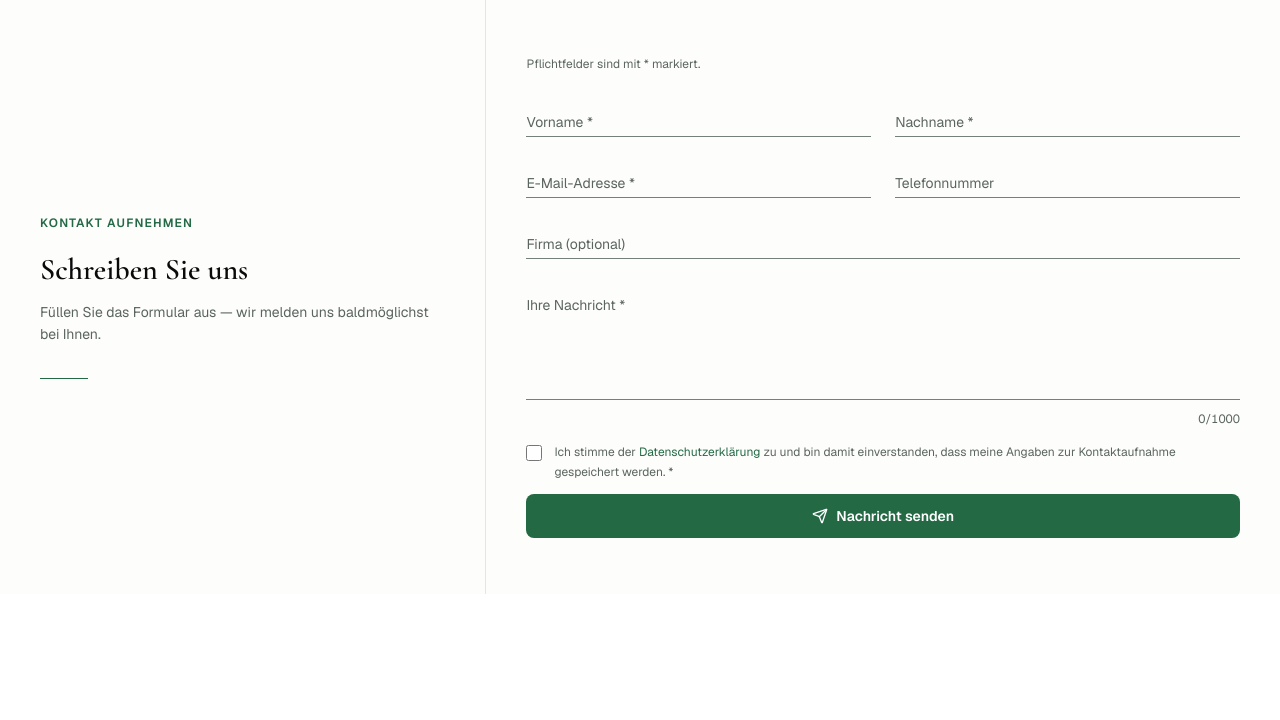
ContactForm › shows server field errors returned by the backend
Type "Anna" into the field labelled "Vorname *" at (699, 116), box [526,96,871,137]
Type "Müller" into the field labelled "Nachname *" at (1068, 116), box [895,96,1240,137]
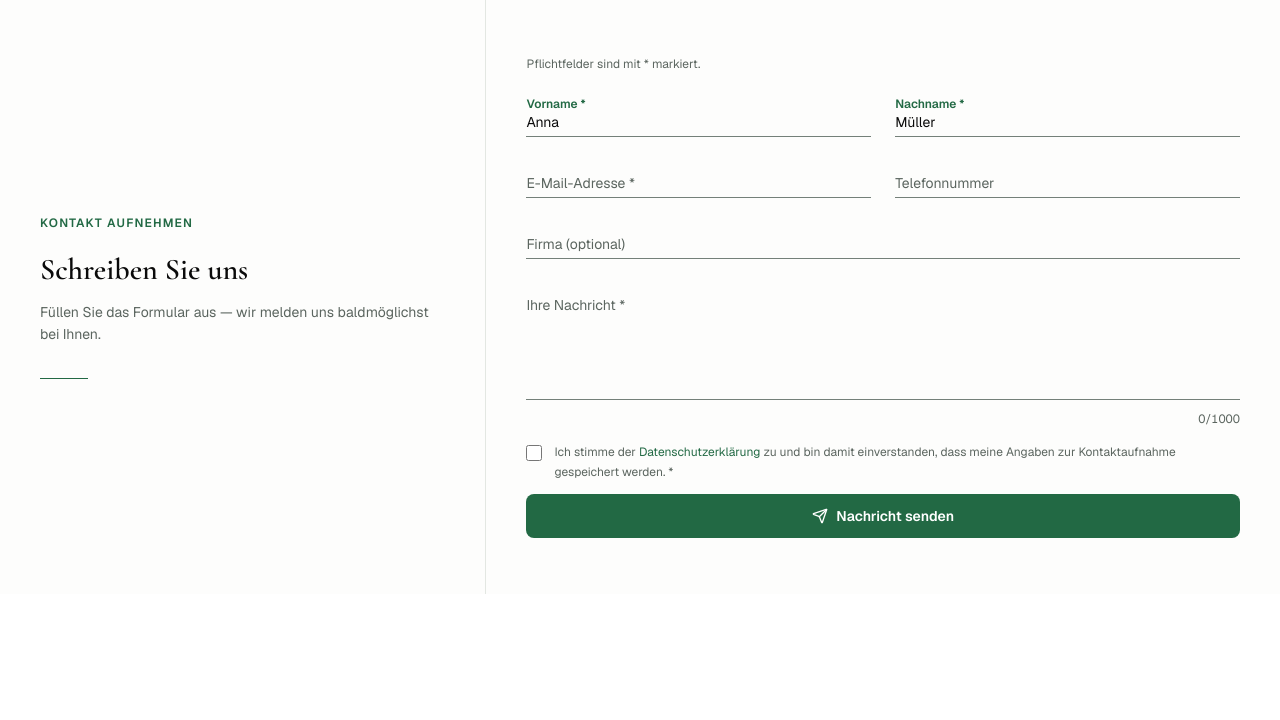
Type "anna@example.de" into the field labelled "E-Mail-Adresse *" at (699, 178), box [526,157,871,198]
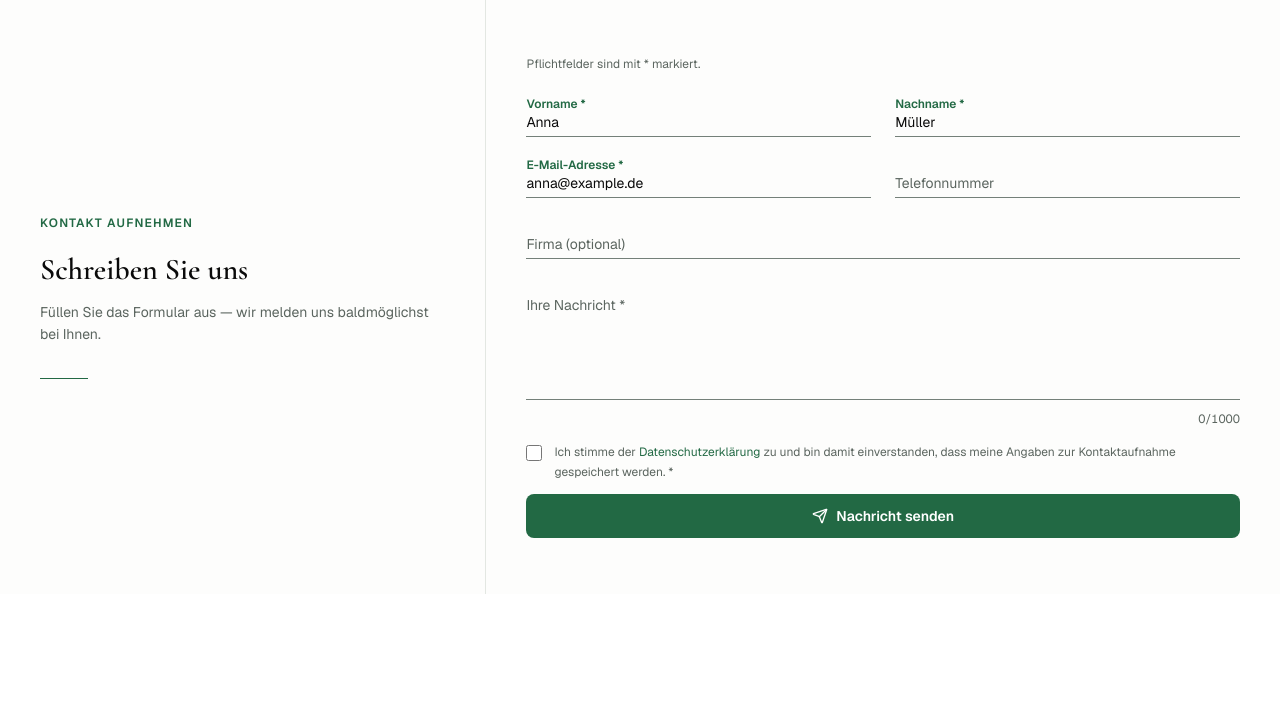
Type "+49123456789" into the field labelled "Telefonnummer" at (1068, 178), box [895,157,1240,198]
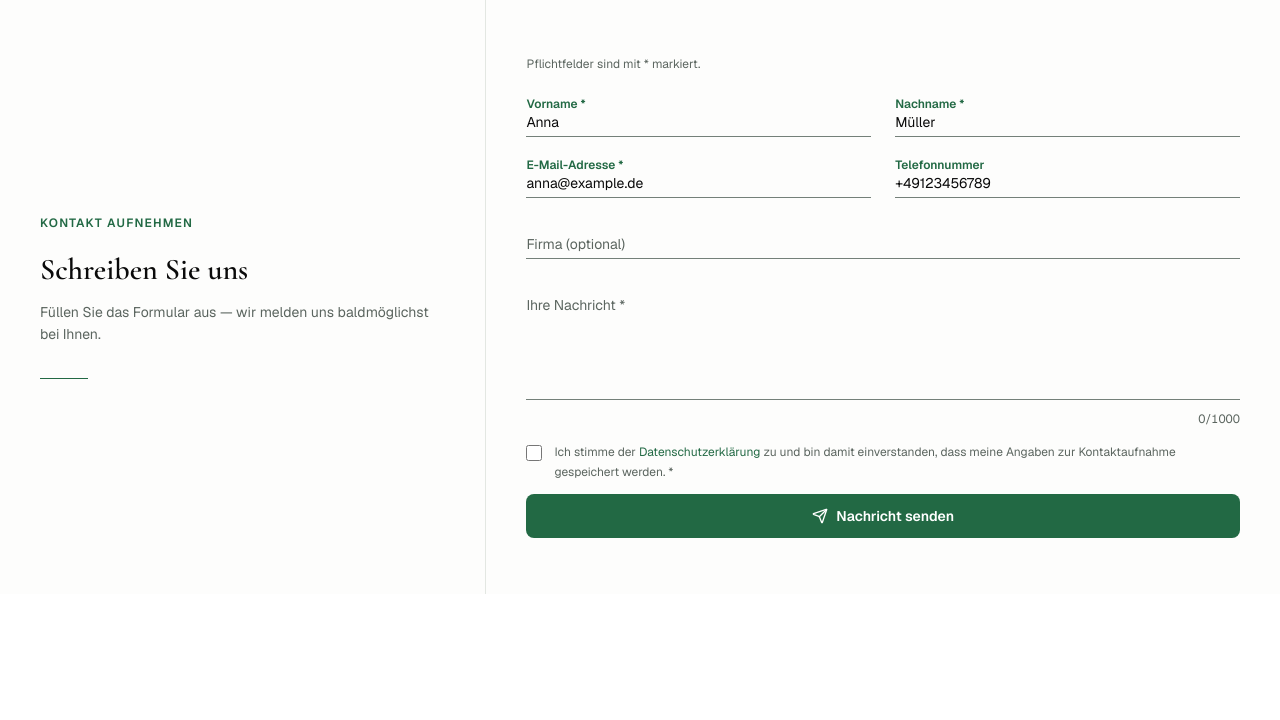
Type "Das ist meine Testnachricht für das Formular." into the text box labelled "Ihre Nachricht *" at (883, 340), box [526,279,1240,400]
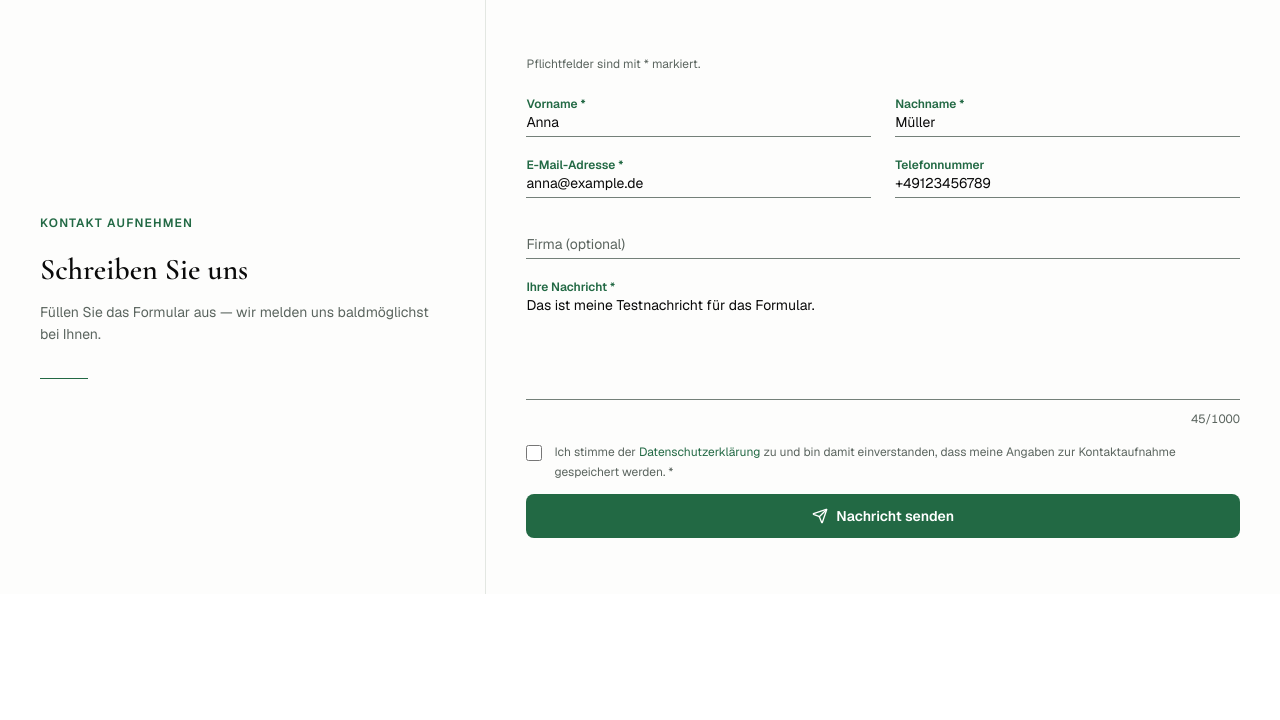
Click the checkbox labelled "Datenschutz" at (534, 453), box [526,445,542,461]
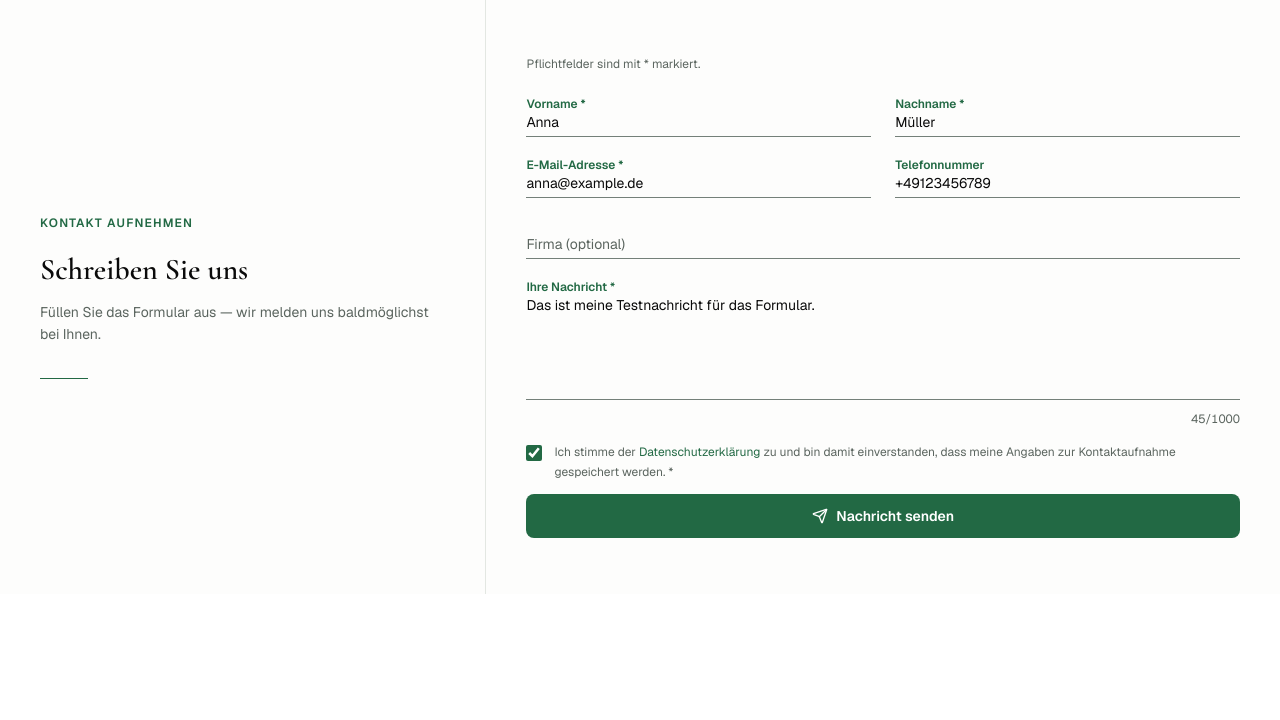
Click the button "Nachricht senden" at (883, 516), box [526,494,1240,538]
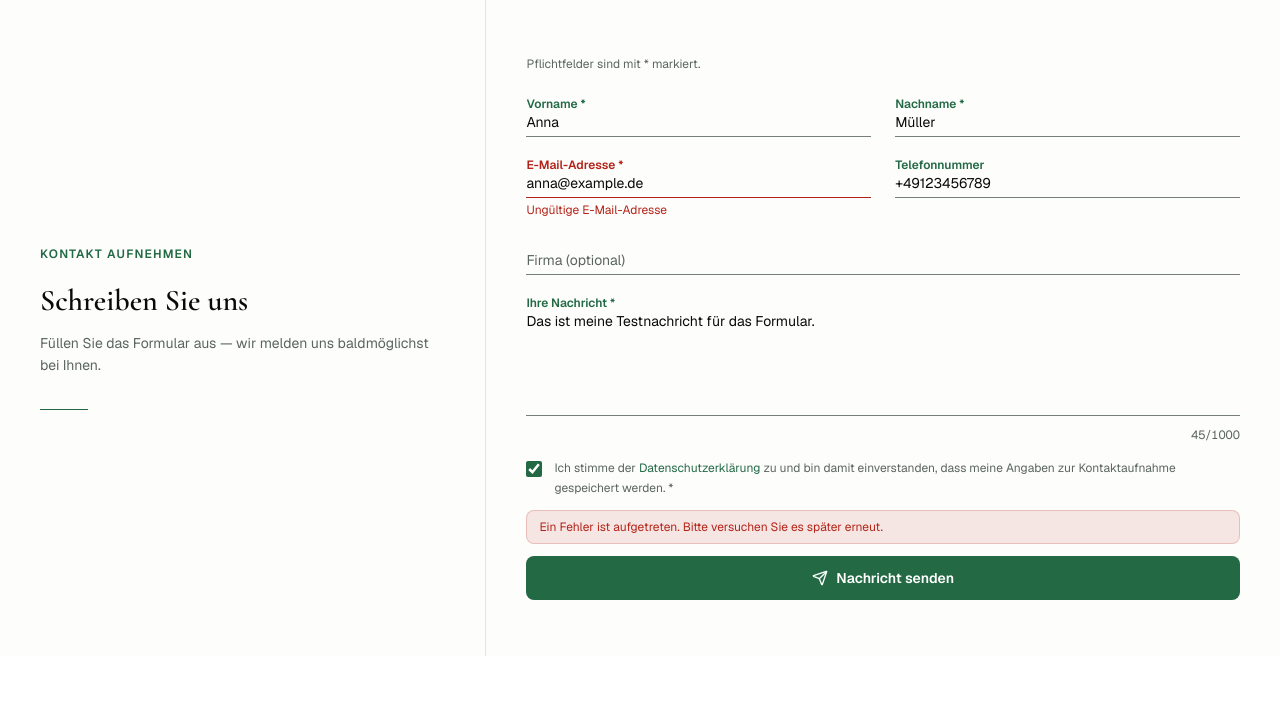
Check: the text "Ungültige E-Mail-Adresse" is shown, box [526,202,667,218]
